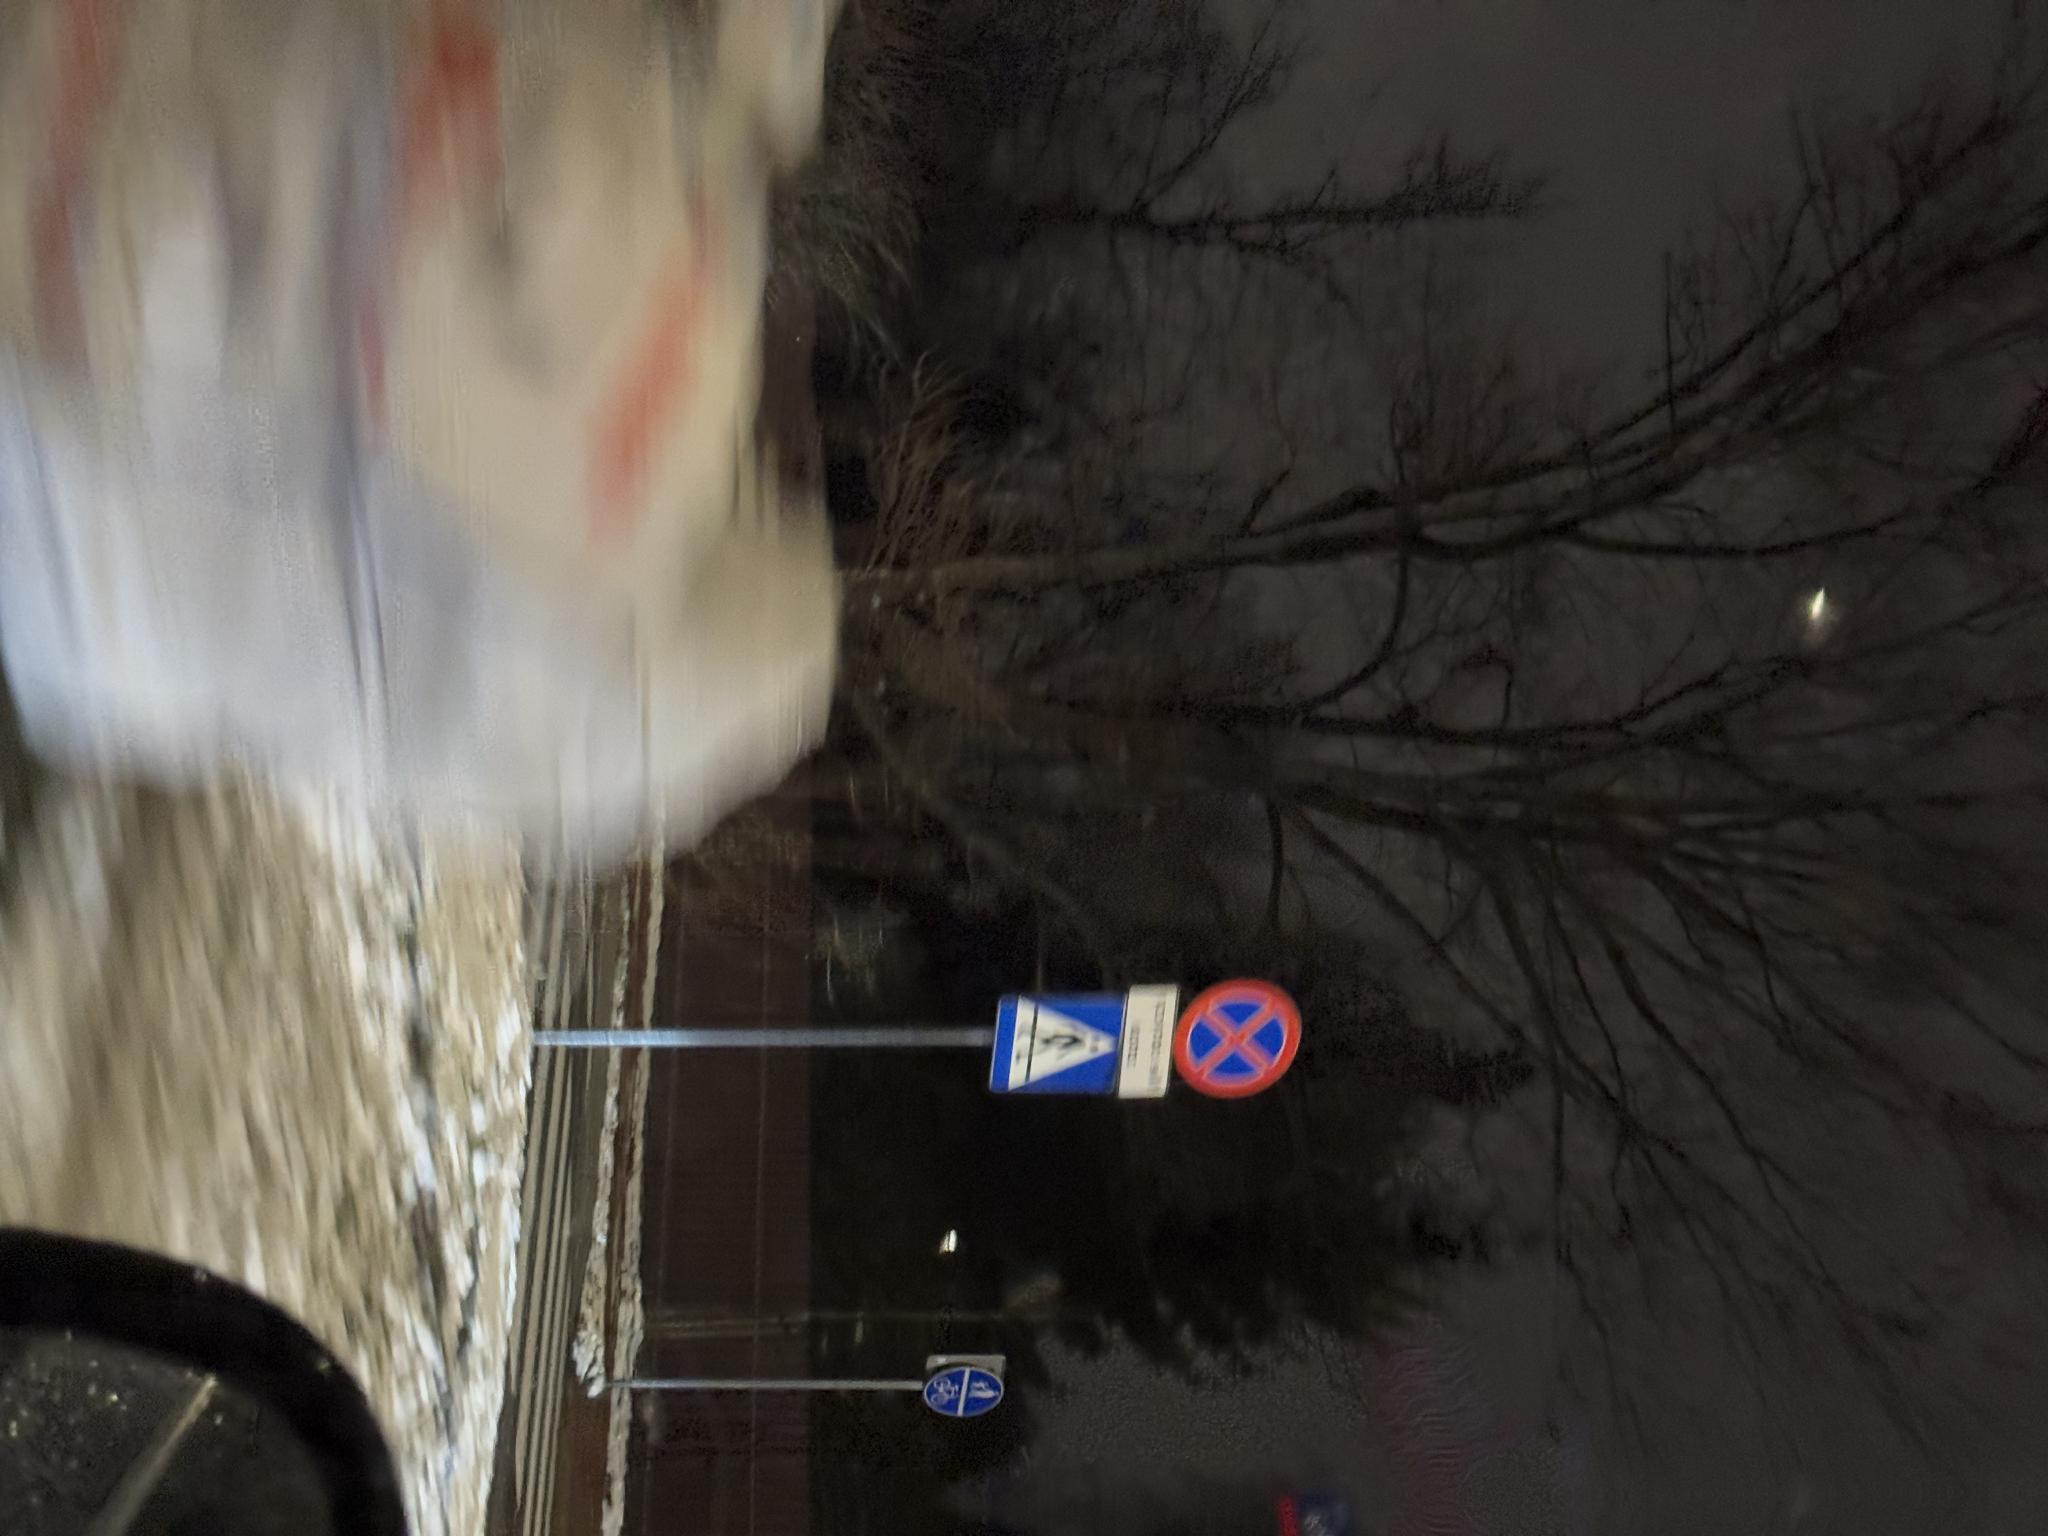information: (1501, 921, 1608, 1062)
mandatory: (1875, 1044, 1930, 1126)
other: (1493, 874, 1611, 928)
prohibitory: (1488, 745, 1611, 874)
